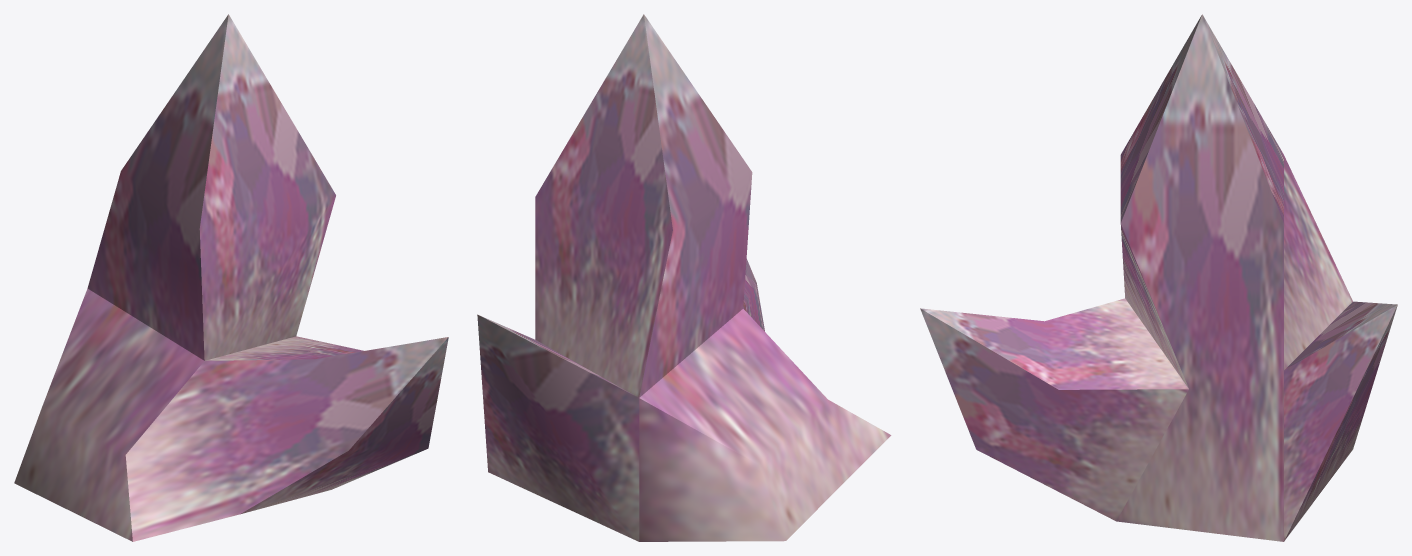
Rendered from mm9_deco_crystal.glb.
The picture shows the model from 3 angles, left to right: view 1: azimuth 30°, elevation 25°; view 2: azimuth 150°, elevation 25°; view 3: azimuth 270°, elevation 25°; orthographic projection. The views are drawn at different scales.
Visible parts, largest first — view 1: Crystal; view 2: Crystal; view 3: Crystal.
Boxes of the visible parts, x1,y1,x2,y2 form: Crystal: (14, 14, 448, 541); Crystal: (477, 14, 891, 541); Crystal: (920, 14, 1397, 541).
Bounding box in the file's own units: 0.5378 × 0.808 × 0.7344.
Materials: 1 (1 with a texture image).
